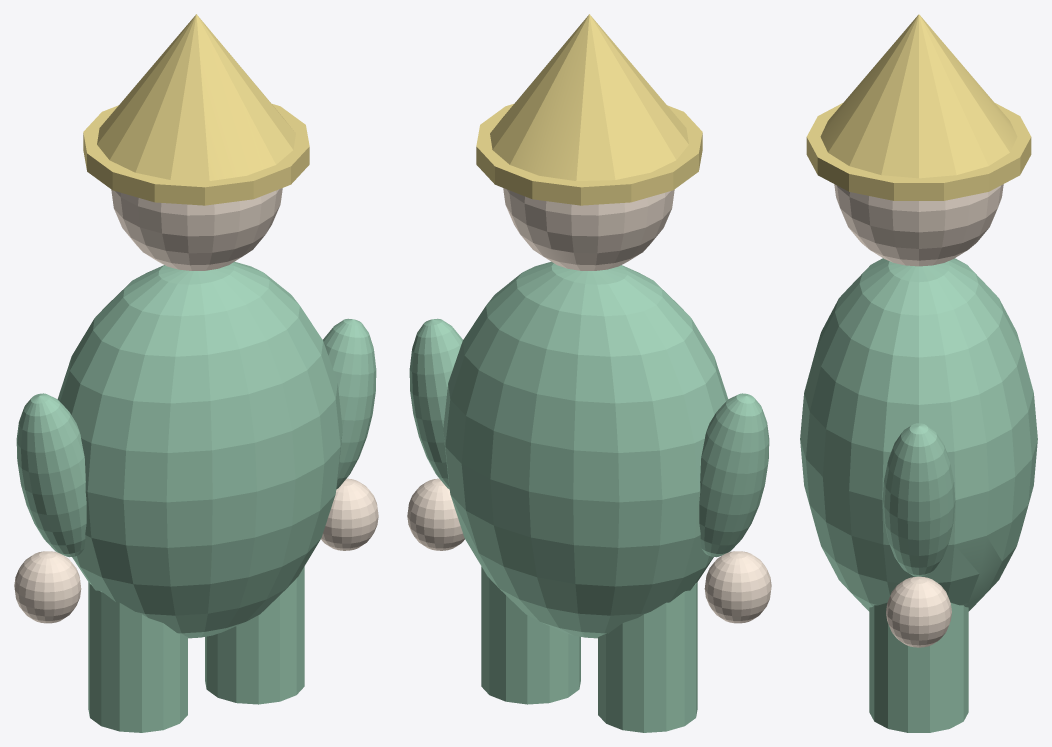
The model's file is preset-02.glb.
3 views of the same model, side by side, from view 1: azimuth 30°, elevation 25°; view 2: azimuth 150°, elevation 25°; view 3: azimuth 270°, elevation 25° (orthographic).
Parts seen in each view (by area): view 1: preset-02; view 2: preset-02; view 3: preset-02.
Boxes of the visible parts, left/top/right/bottom form: preset-02: left=14, top=14, right=378, bottom=732; preset-02: left=407, top=14, right=771, bottom=732; preset-02: left=800, top=14, right=1037, bottom=732.
Size of the model in its own units: 0.1906 by 0.35 by 0.1125.
